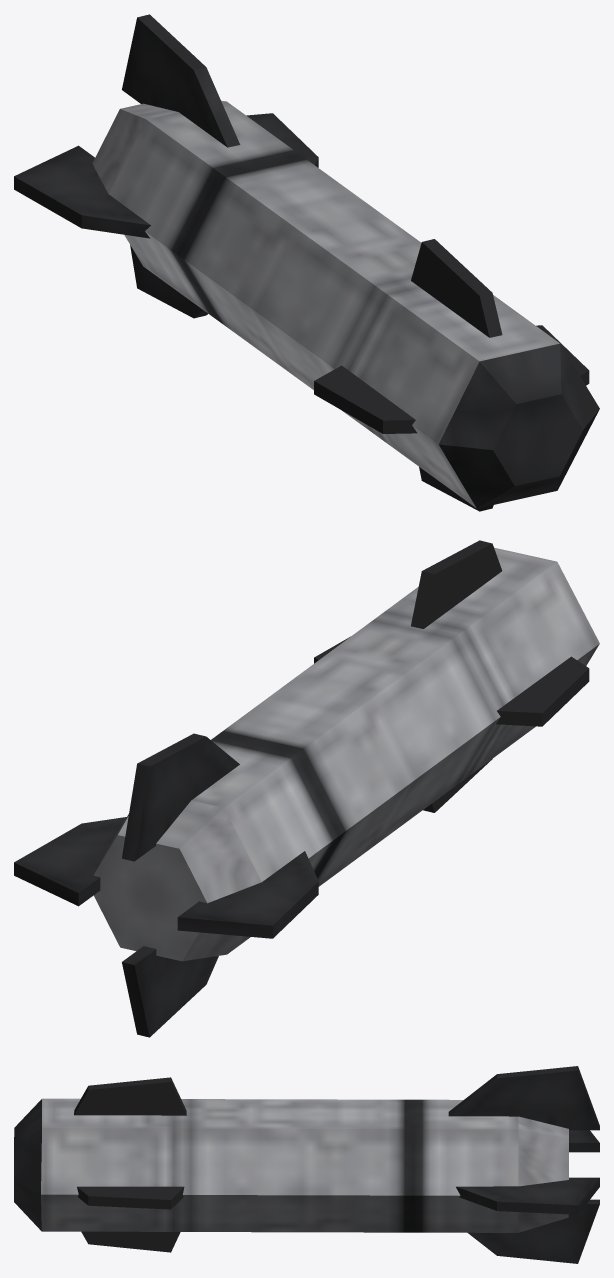
Rendered from t_bullet_missile01.fbx.
3 views of the same model, one above another, from view 1: azimuth 30°, elevation 25°; view 2: azimuth 150°, elevation 25°; view 3: azimuth 270°, elevation 25° (orthographic). The views are drawn at different scales.
Visible parts, largest first — view 1: polySurface1386, pCube58, pCube59, pCube54, pCube55, pCube60, pCube61; view 2: polySurface1386, pCube58, pCube59, pCube61, pCube60, pCube54, pCube55; view 3: polySurface1386, pCube58, pCube60, pCube61, pCube54, pCube57, pCube56, pCube59.
Boxes of the visible parts, x1=… form: polySurface1386: x1=92, y1=100, x2=599, y2=508; pCube58: x1=122, y1=14, x2=240, y2=147; pCube59: x1=14, y1=145, x2=150, y2=238; pCube54: x1=411, y1=239, x2=502, y2=337; pCube55: x1=314, y1=365, x2=417, y2=433; pCube60: x1=130, y1=245, x2=207, y2=318; pCube61: x1=246, y1=113, x2=318, y2=167; polySurface1386: x1=93, y1=547, x2=599, y2=961; pCube58: x1=122, y1=733, x2=239, y2=861; pCube59: x1=177, y1=851, x2=318, y2=938; pCube61: x1=14, y1=817, x2=126, y2=906; pCube60: x1=122, y1=946, x2=218, y2=1037; pCube54: x1=411, y1=540, x2=502, y2=628; pCube55: x1=496, y1=656, x2=589, y2=726; polySurface1386: x1=14, y1=1098, x2=568, y2=1232; pCube58: x1=448, y1=1066, x2=599, y2=1130; pCube60: x1=467, y1=1199, x2=599, y2=1263; pCube61: x1=456, y1=1177, x2=599, y2=1214; pCube54: x1=74, y1=1077, x2=186, y2=1115; pCube57: x1=77, y1=1186, x2=184, y2=1209; pCube56: x1=81, y1=1231, x2=180, y2=1252; pCube59: x1=569, y1=1130, x2=599, y2=1152.
Size of the model in its own units: 0.0974 by 0.0974 by 0.2673.
